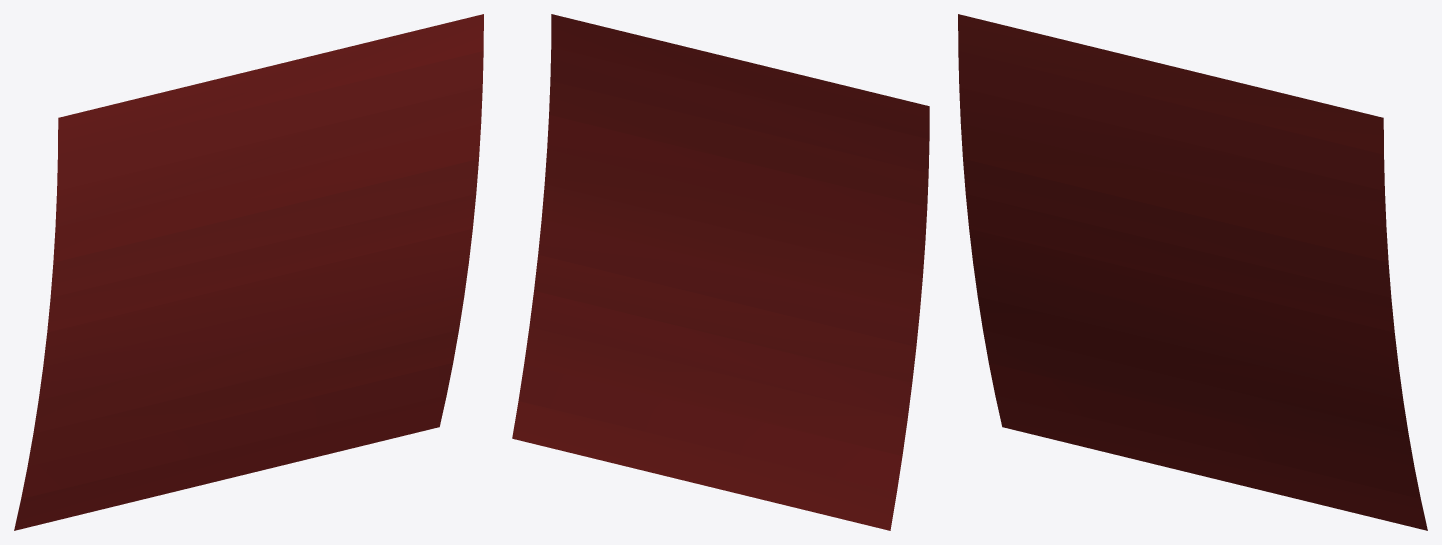
File: SM_RV_Waterfall.fbx
3 renders of one model, left to right at view 1: azimuth 30°, elevation 25°; view 2: azimuth 150°, elevation 25°; view 3: azimuth 330°, elevation 25°, orthographic. The views are drawn at different scales.
Visible parts, largest first — view 1: SM_RV_Waterfall; view 2: SM_RV_Waterfall; view 3: SM_RV_Waterfall.
Part boxes in pixels (x1,y1,x2,y2): SM_RV_Waterfall: [14, 14, 483, 530]; SM_RV_Waterfall: [512, 14, 929, 530]; SM_RV_Waterfall: [958, 14, 1427, 530].
Size of the model in its own units: 18 by 100 by 100.
